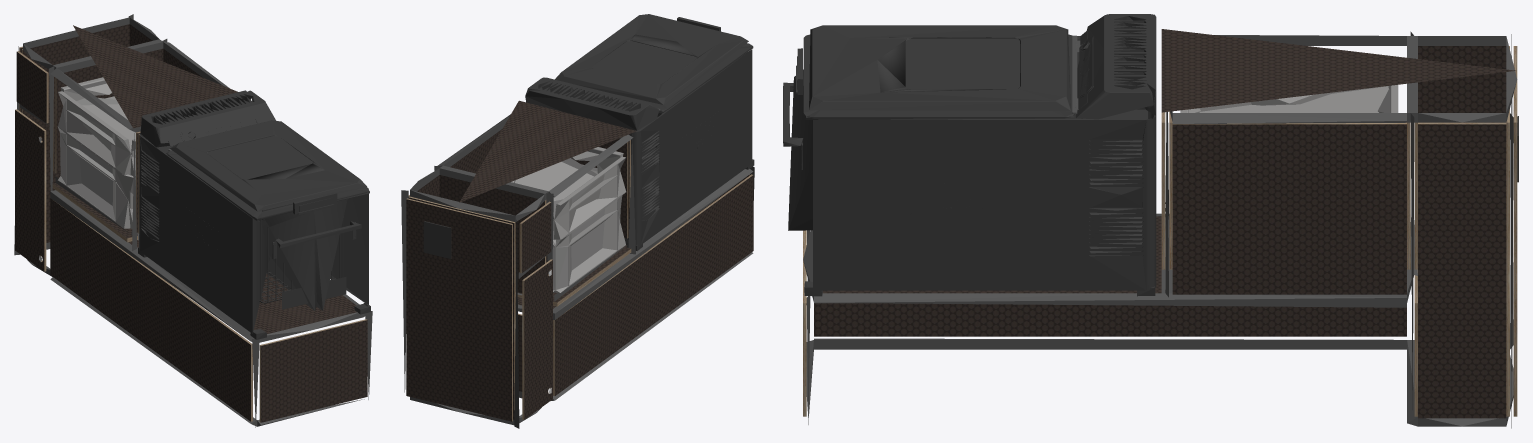
Rendered from active-side-cabinet-hexa.glb.
3 views of the same model, side by side, from view 1: azimuth 30°, elevation 25°; view 2: azimuth 150°, elevation 25°; view 3: azimuth 270°, elevation 25° (orthographic). The views are drawn at different scales.
Parts seen in each view (by area): view 1: Furniture AO atlas; view 2: Furniture AO atlas; view 3: Furniture AO atlas.
Boxes of the visible parts, x1,y1,x2,y2 form: Furniture AO atlas: (14,14,372,427); Furniture AO atlas: (401,14,754,428); Furniture AO atlas: (783,14,1518,428).
Bounding box in the file's own units: 0.3831 × 0.678 × 1.35.
Materials: 6 (2 with a texture image).
